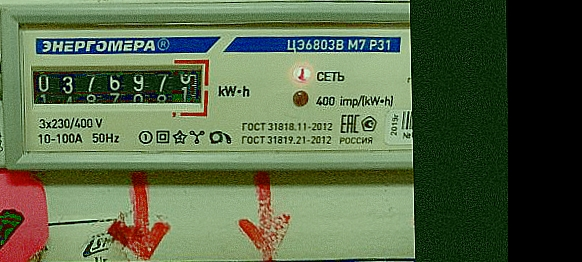0: (37, 71, 50, 92)
1: (179, 83, 190, 102)
3: (61, 73, 74, 93)
6: (108, 69, 121, 90)
7: (84, 70, 97, 92), (156, 70, 168, 92)
9: (132, 70, 144, 92)
screen: (23, 53, 215, 120)
